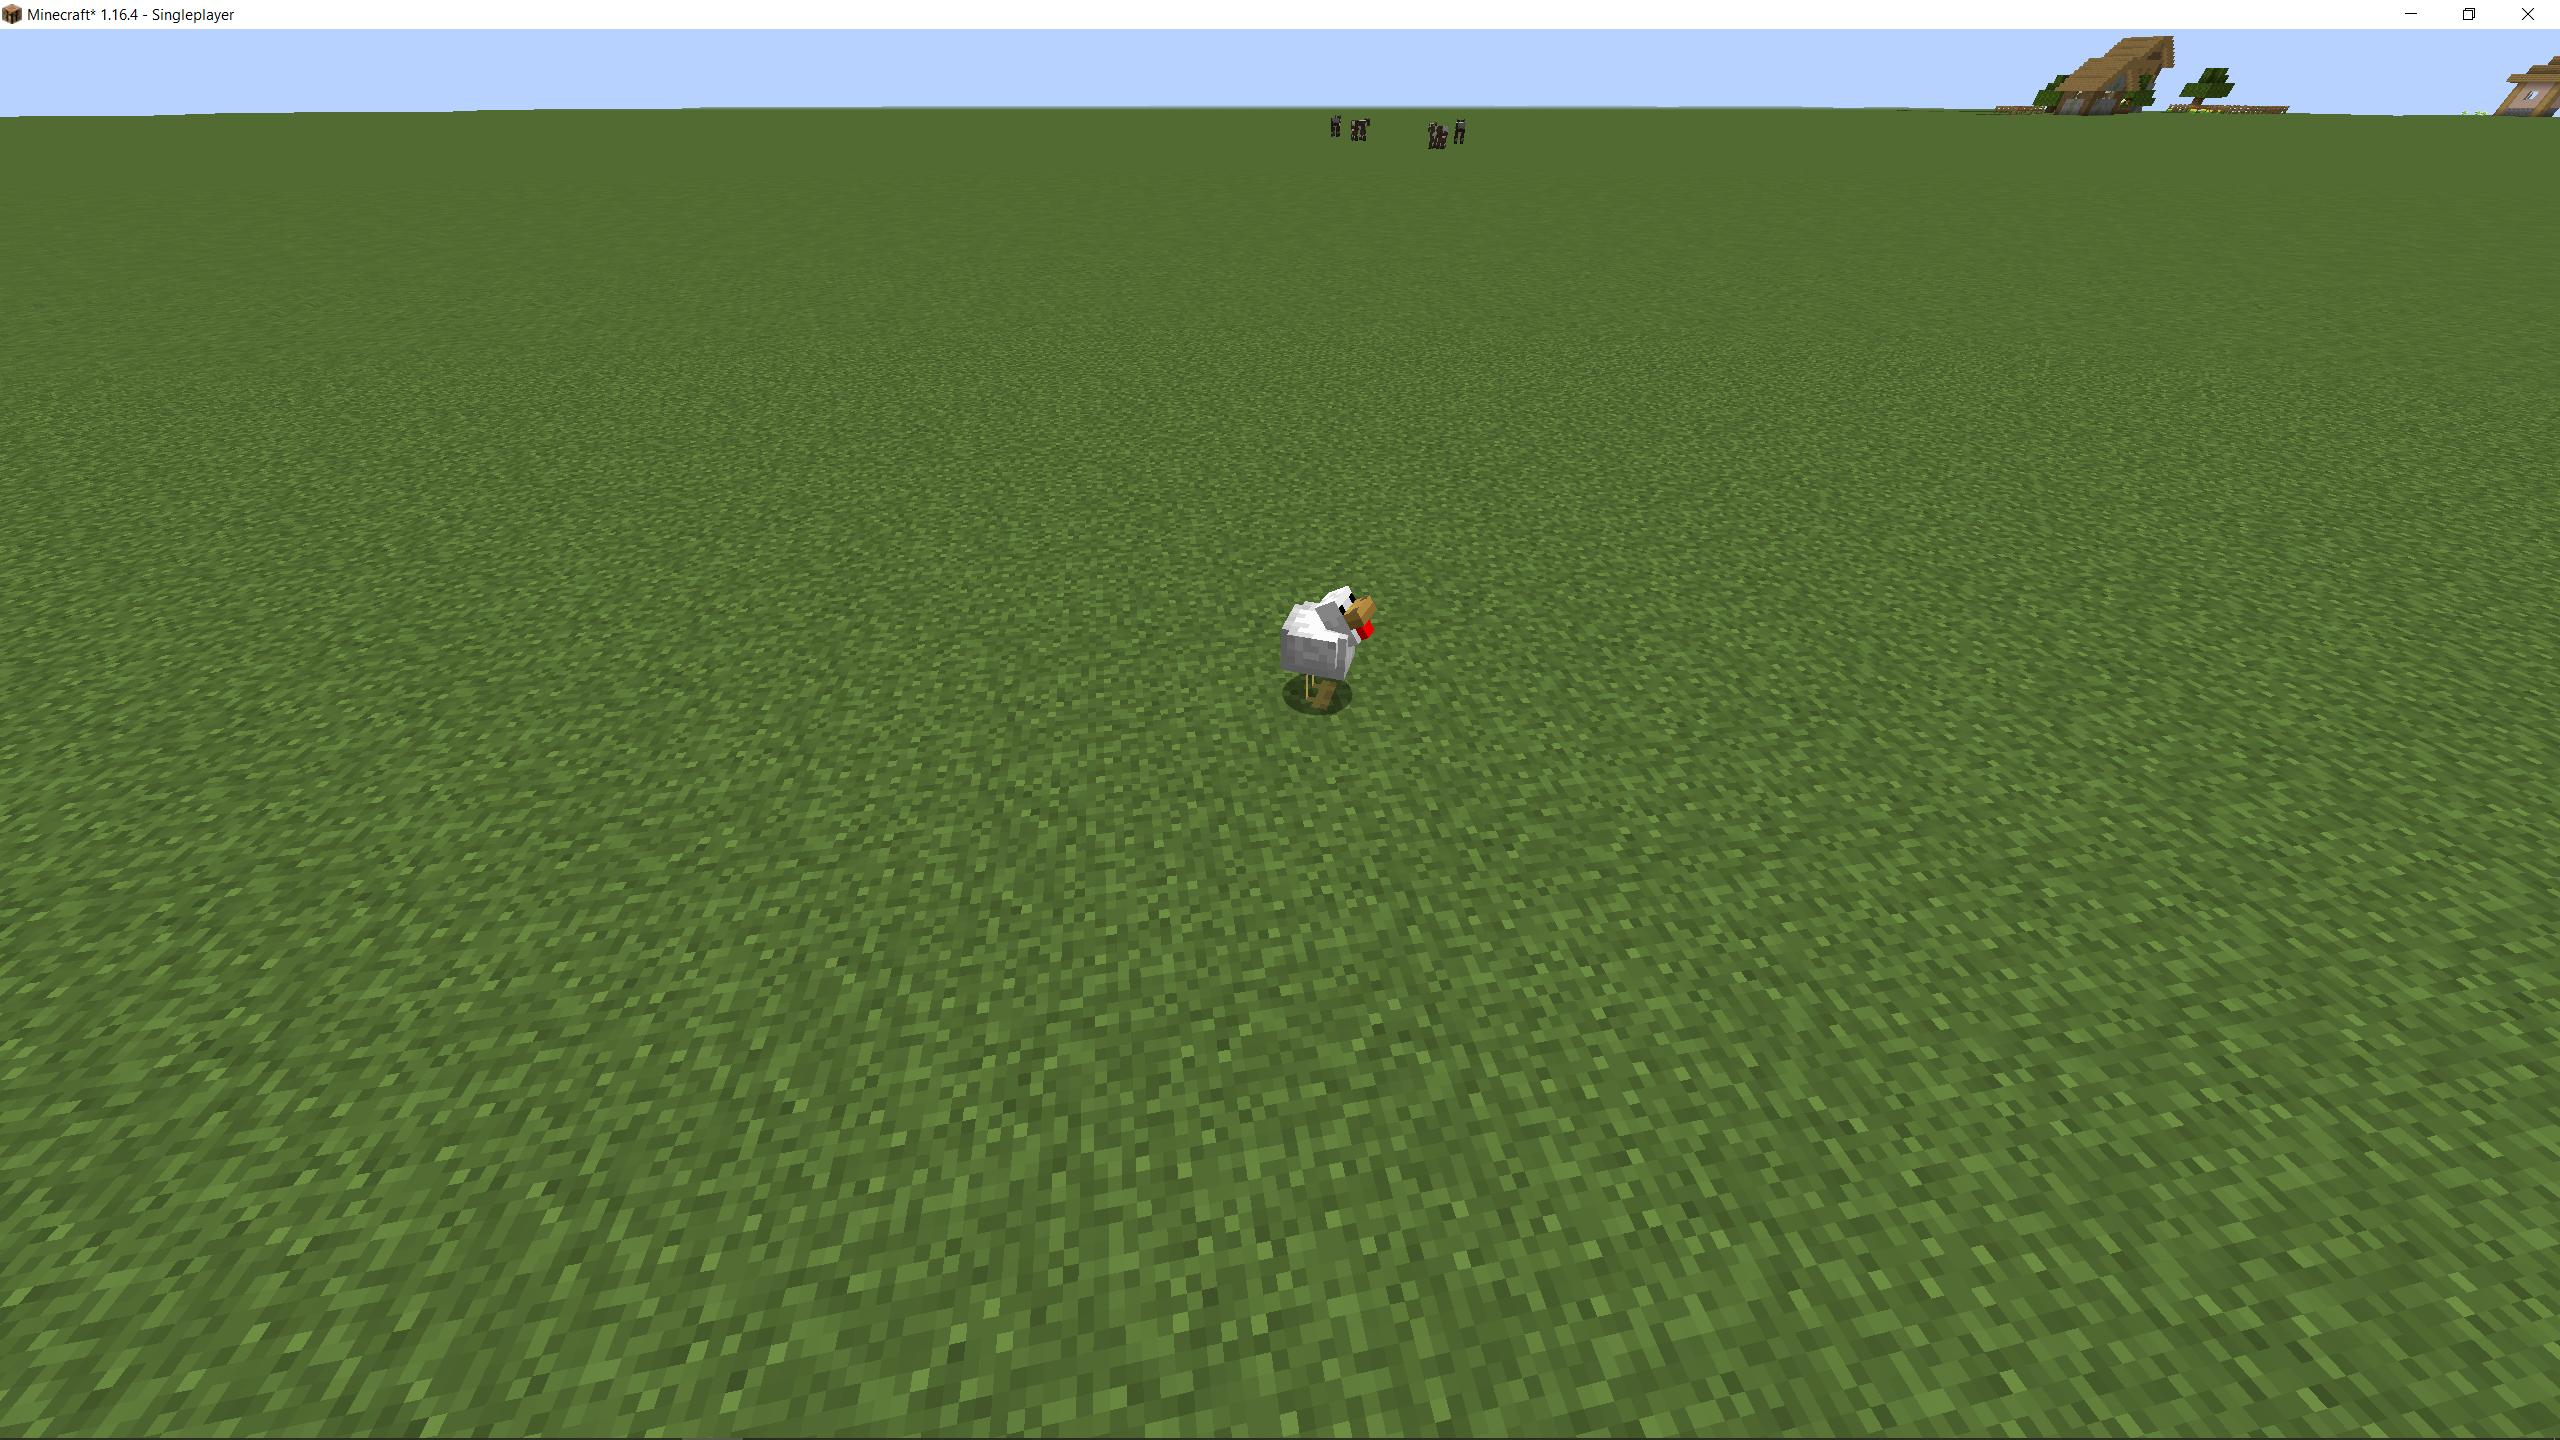chicken: (1278, 580, 1380, 712)
